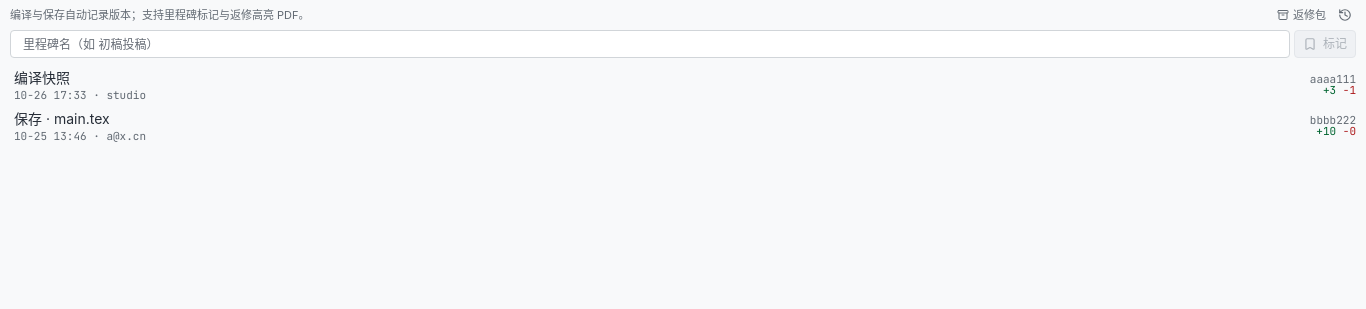
Scenario: LatexHistory › 选中版本拉取与工作区的差异；恢复按钮调 onRestore 并展示结果
Click the option "编译快照 10-26 17:33 · studio aaaa111 +3 −1". click: {"x": 42, "y": 78}
box: [4,64,1362,105]
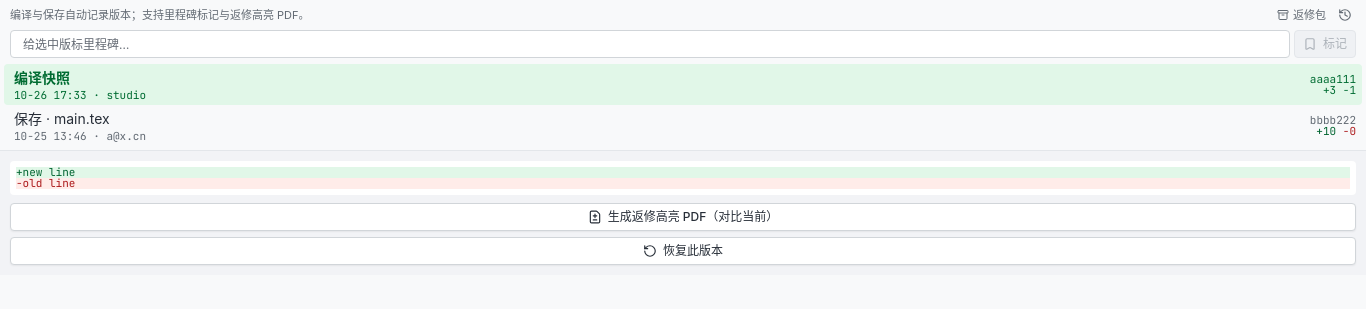
Expected: the element with test id "latex-version-diff" shows "+new line", [16,165,75,179]
Click the button with test id "latex-history-restore". click: {"x": 683, "y": 251}
box: [10,237,1356,265]
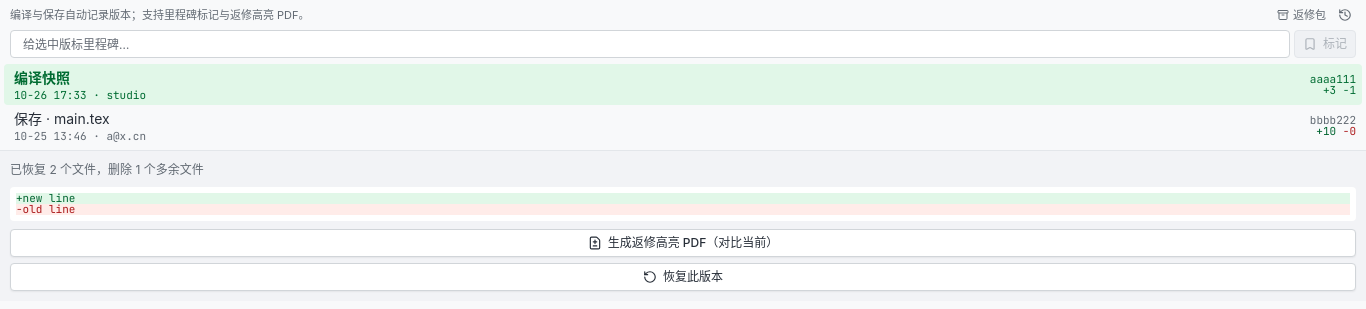
Expected: the message with test id "latex-history-result" shows "已恢复 2 个文件", [10,162,204,177]
